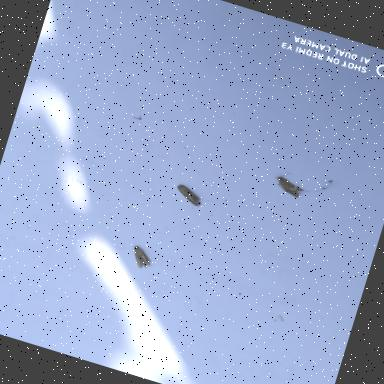pbw: (268, 166, 311, 202), (171, 180, 206, 209), (124, 242, 156, 273)
